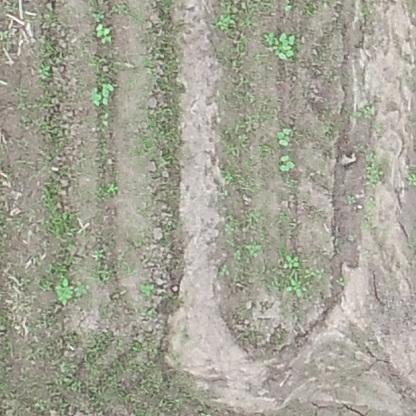vc: (89, 81, 113, 107), (277, 33, 296, 62), (54, 278, 74, 302), (94, 23, 114, 43), (276, 126, 294, 148), (278, 154, 297, 172)
